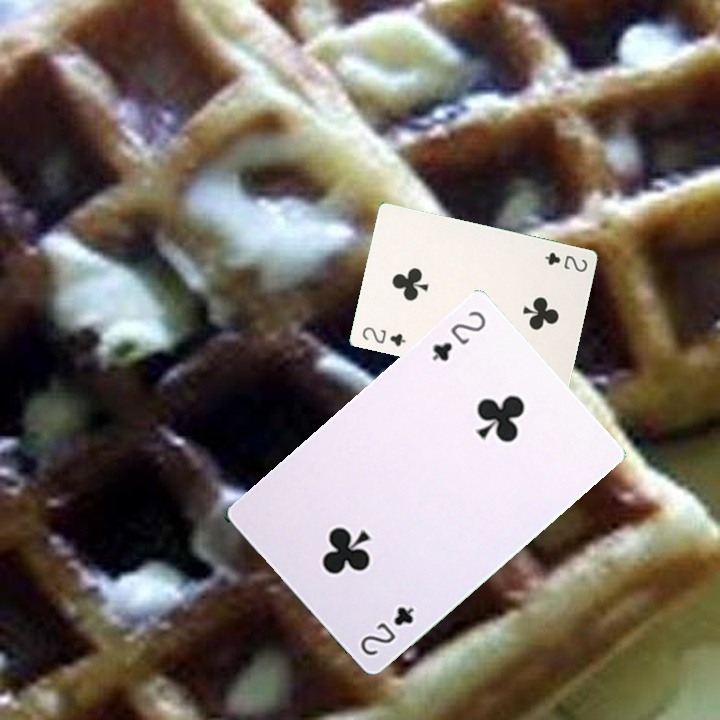2c: (428, 306, 489, 364), (356, 602, 417, 659), (541, 248, 590, 275), (358, 323, 408, 349)
